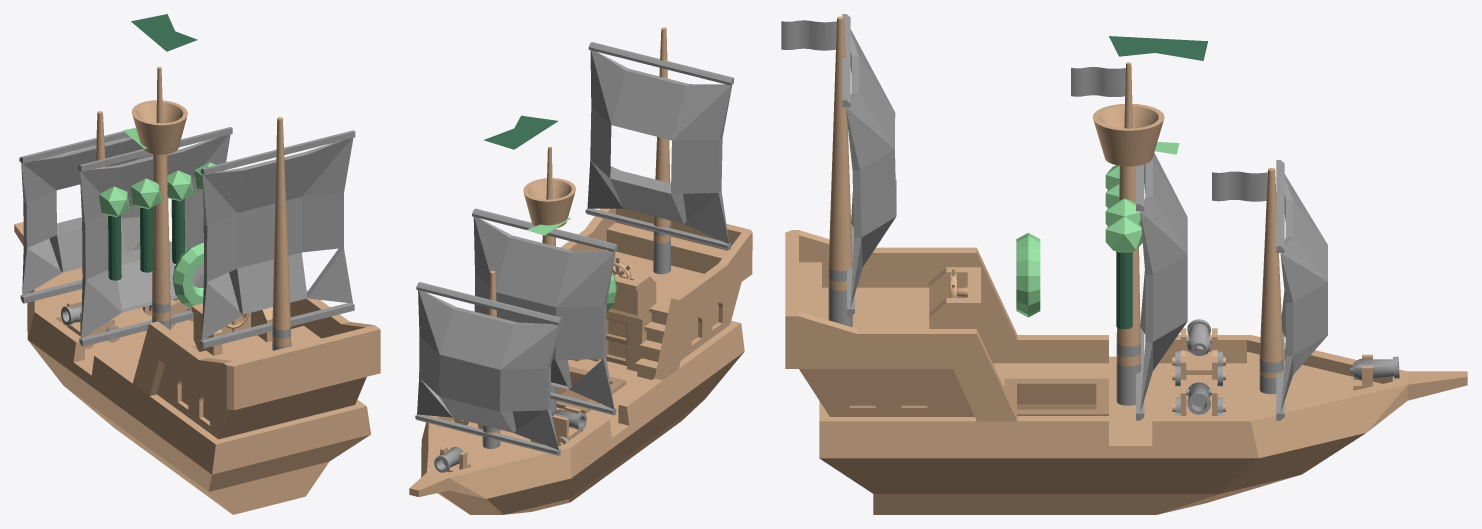
The model's file is ile_06_brume_des_marais_anime.glb.
3 renders of one model, left to right at view 1: azimuth 30°, elevation 25°; view 2: azimuth 150°, elevation 25°; view 3: azimuth 270°, elevation 25°, orthographic. The views are drawn at different scales.
Visible parts, largest first — view 1: navire_pirate_sombre_assimp, Anneau_Marais, Grand_Pavillon, Poteau_Marais_0, Poteau_Marais_1, Poteau_Marais_2, Lanterne_Marais_1, Lanterne_Marais_0, Lanterne_Marais_2; view 2: navire_pirate_sombre_assimp, Grand_Pavillon; view 3: navire_pirate_sombre_assimp, Anneau_Marais, Grand_Pavillon, Poteau_Marais_3, Lanterne_Marais_3.
Boxes of the visible parts, x1=… form: navire_pirate_sombre_assimp: x1=14, y1=67, x2=380, y2=514; Anneau_Marais: x1=172, y1=243, x2=203, y2=307; Grand_Pavillon: x1=131, y1=14, x2=197, y2=51; Poteau_Marais_0: x1=108, y1=215, x2=121, y2=280; Poteau_Marais_1: x1=140, y1=207, x2=153, y2=272; Poteau_Marais_2: x1=171, y1=199, x2=184, y2=263; Lanterne_Marais_1: x1=130, y1=178, x2=161, y2=208; Lanterne_Marais_0: x1=99, y1=186, x2=129, y2=216; Lanterne_Marais_2: x1=167, y1=170, x2=193, y2=201; navire_pirate_sombre_assimp: x1=409, y1=27, x2=752, y2=514; Grand_Pavillon: x1=483, y1=115, x2=557, y2=149; navire_pirate_sombre_assimp: x1=781, y1=14, x2=1467, y2=514; Anneau_Marais: x1=1016, y1=232, x2=1040, y2=317; Grand_Pavillon: x1=1109, y1=36, x2=1207, y2=60; Poteau_Marais_3: x1=1116, y1=251, x2=1132, y2=329; Lanterne_Marais_3: x1=1105, y1=216, x2=1142, y2=252.
Size of the model in its own units: 27.36 by 65.51 by 85.84.
